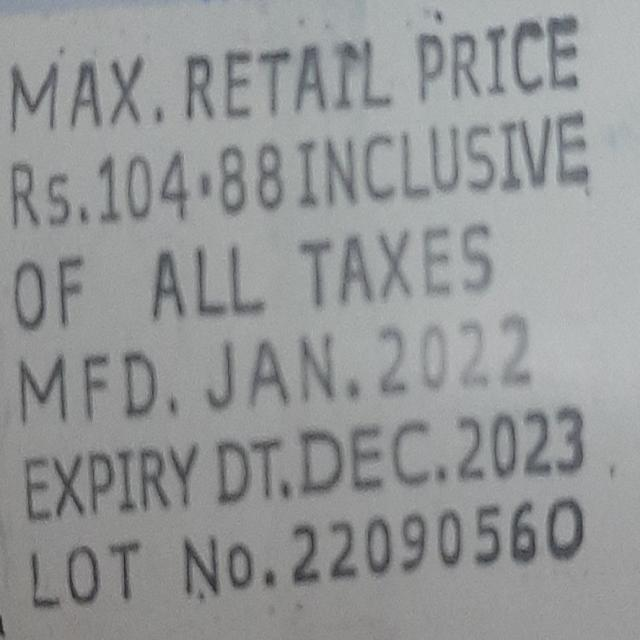sentence: (10, 111, 589, 229), (20, 405, 588, 523), (10, 15, 579, 131), (30, 498, 584, 608), (16, 314, 532, 425), (11, 222, 495, 330)
